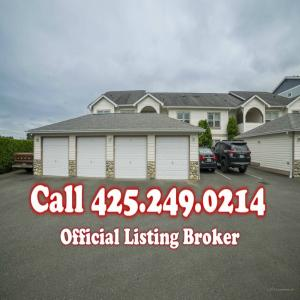Vehicle-registration-plate: (241, 156, 245, 160)
